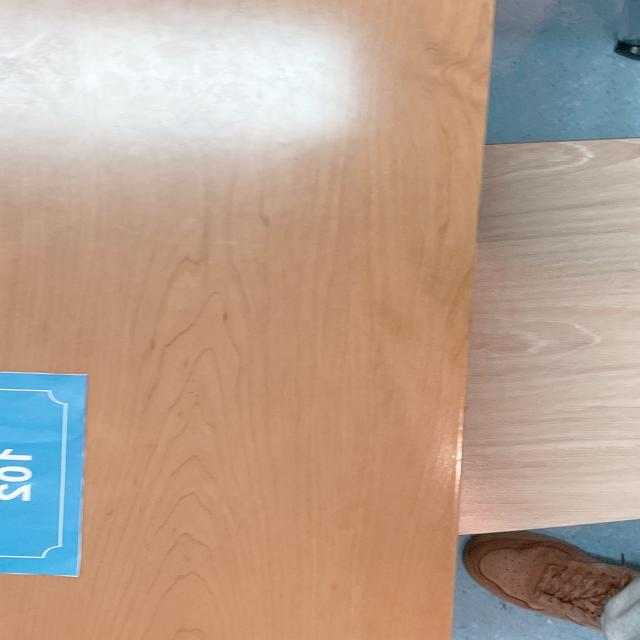Card: (0, 307, 121, 608)
